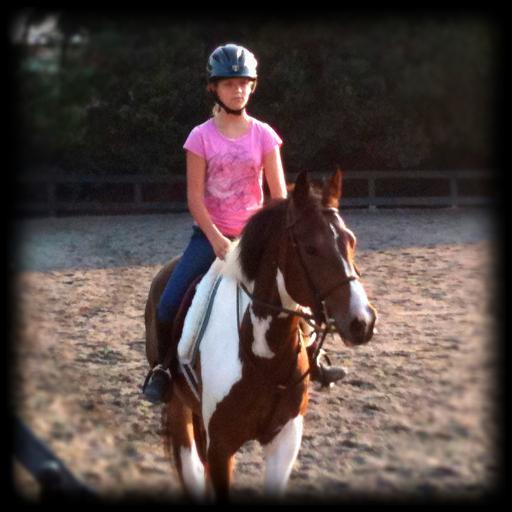horse: (144, 162, 379, 494)
